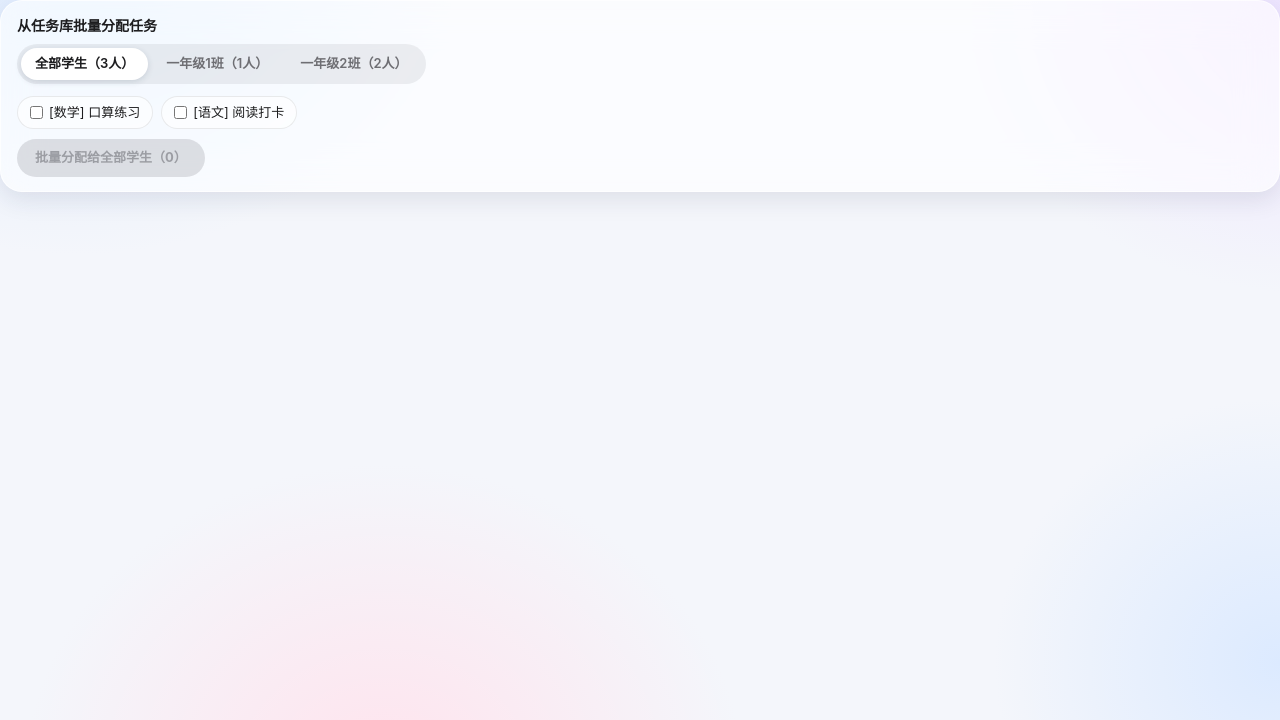
Test: AssignTaskBar › switches the assign target on click
Step 1. Click the tab "一年级2班（2人）" → (354, 64), box x1=286 y1=48 x2=422 y2=80
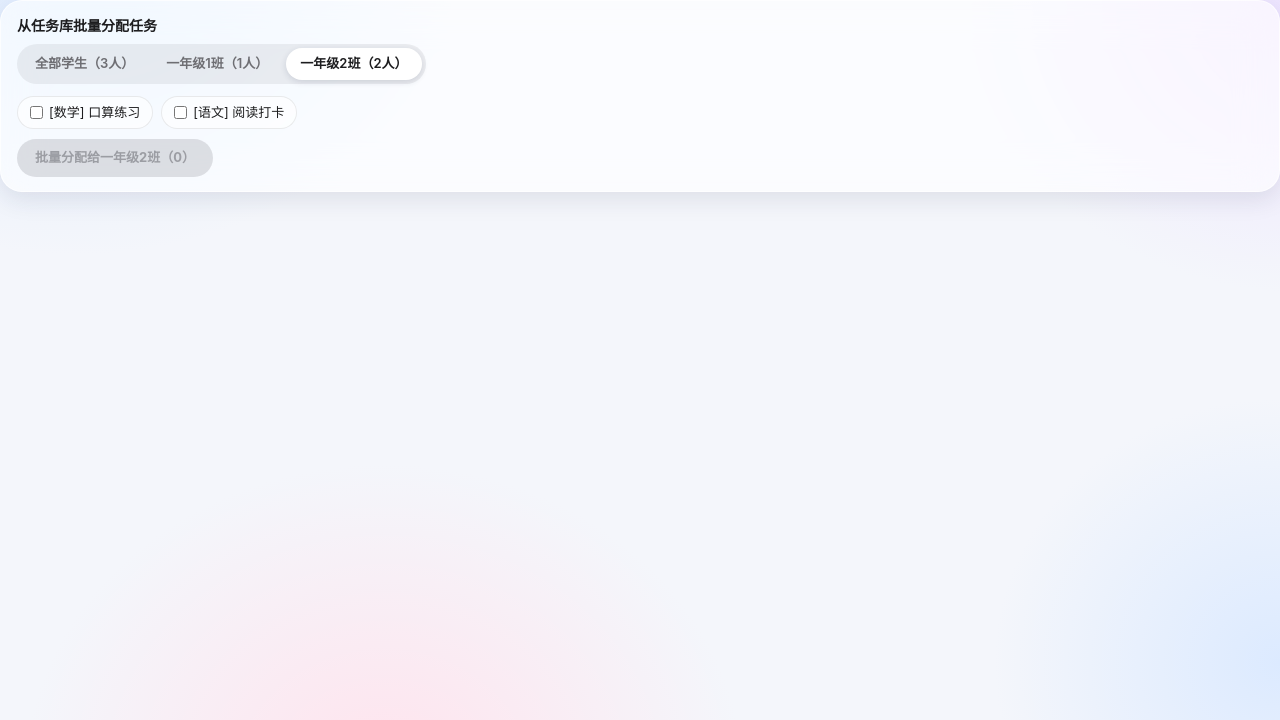
Check: the button "批量分配给一年级2班（0）" is shown, box x1=17 y1=139 x2=213 y2=176
